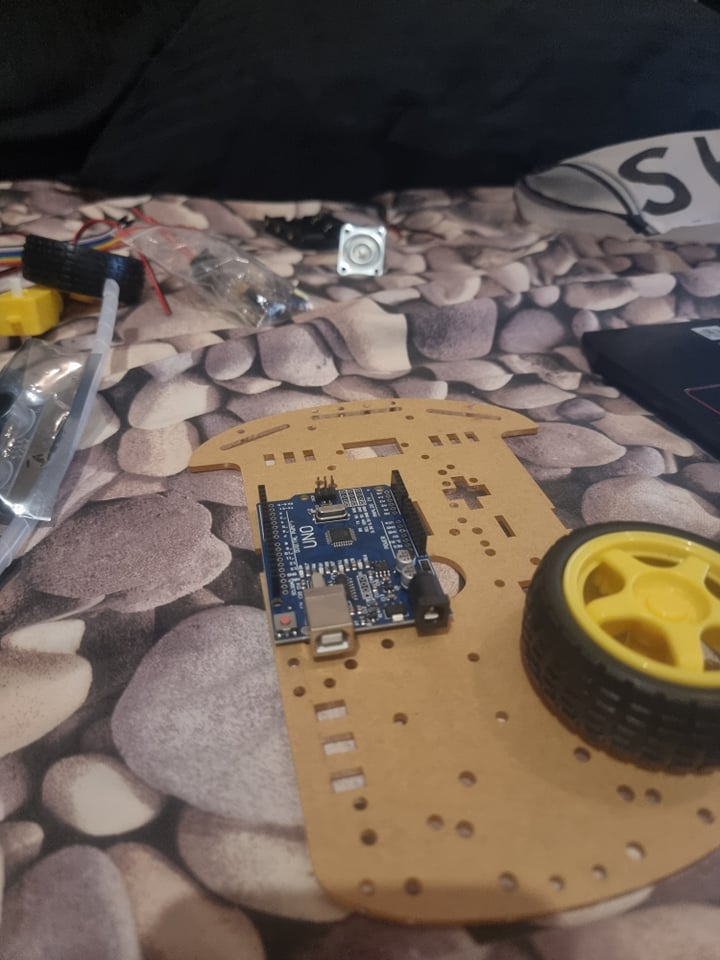BATTERY BOX: (263, 206, 344, 249)
UNO R3: (251, 467, 456, 663)
